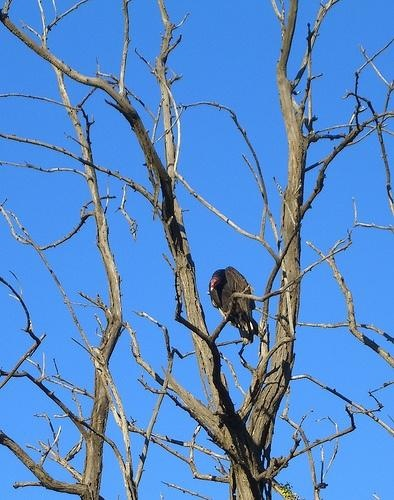bird: (207, 266, 259, 339)
